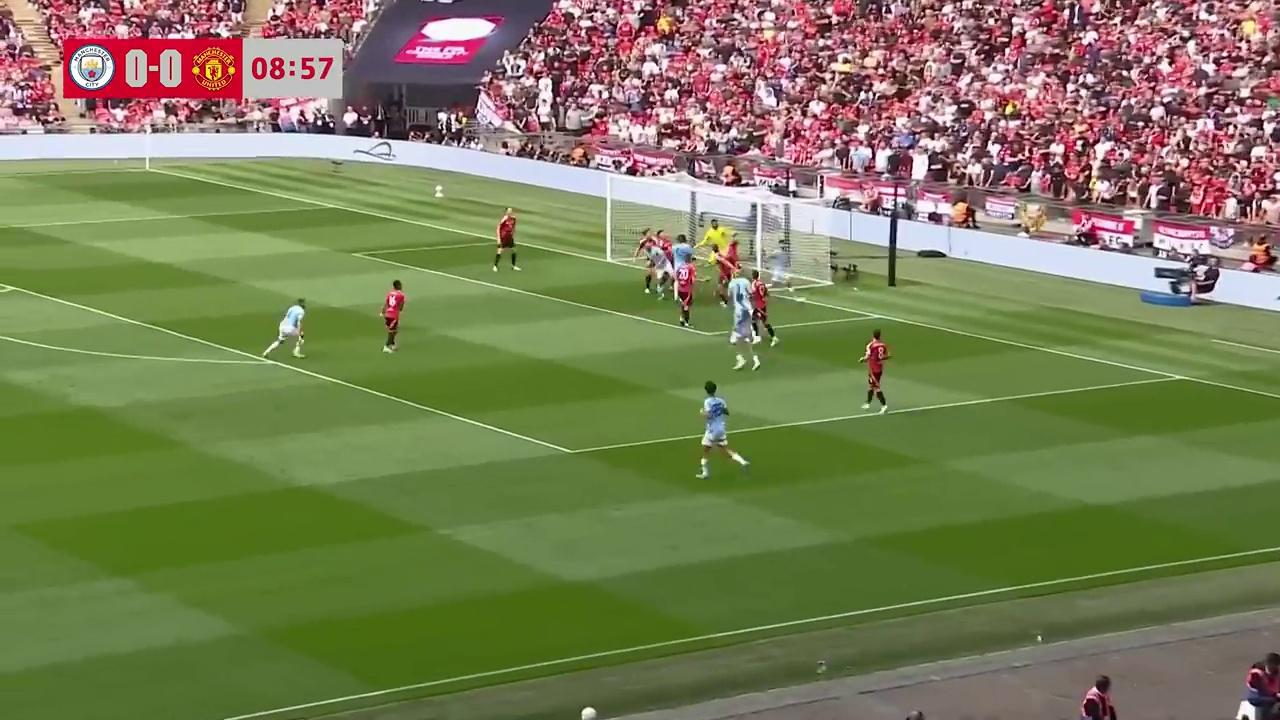player: (695, 381, 750, 479), (728, 287, 763, 374), (858, 329, 890, 414), (267, 299, 306, 358), (631, 229, 660, 297), (749, 283, 779, 348), (695, 217, 724, 284), (379, 278, 405, 352), (492, 210, 520, 271), (719, 232, 747, 288), (649, 240, 674, 300), (676, 254, 696, 327)
